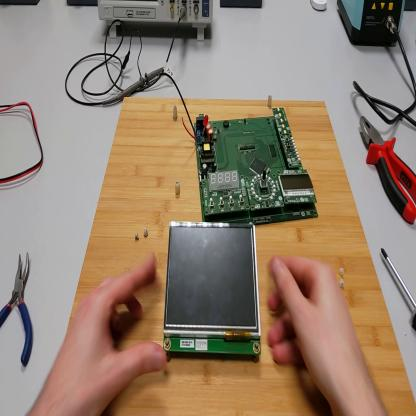hand: (48, 252, 165, 416), (268, 253, 365, 398)
low voltage board: (164, 69, 321, 222)
oscilloscope: (98, 2, 215, 47)
oscilloscope probe tip: (104, 59, 164, 106)
pliers: (358, 113, 416, 224), (2, 250, 38, 366)
screwdriver-: (381, 248, 416, 331)
socket: (68, 3, 98, 11), (2, 2, 40, 8), (406, 2, 416, 12)
welder station: (337, 1, 406, 52)
working area: (72, 88, 416, 415)
